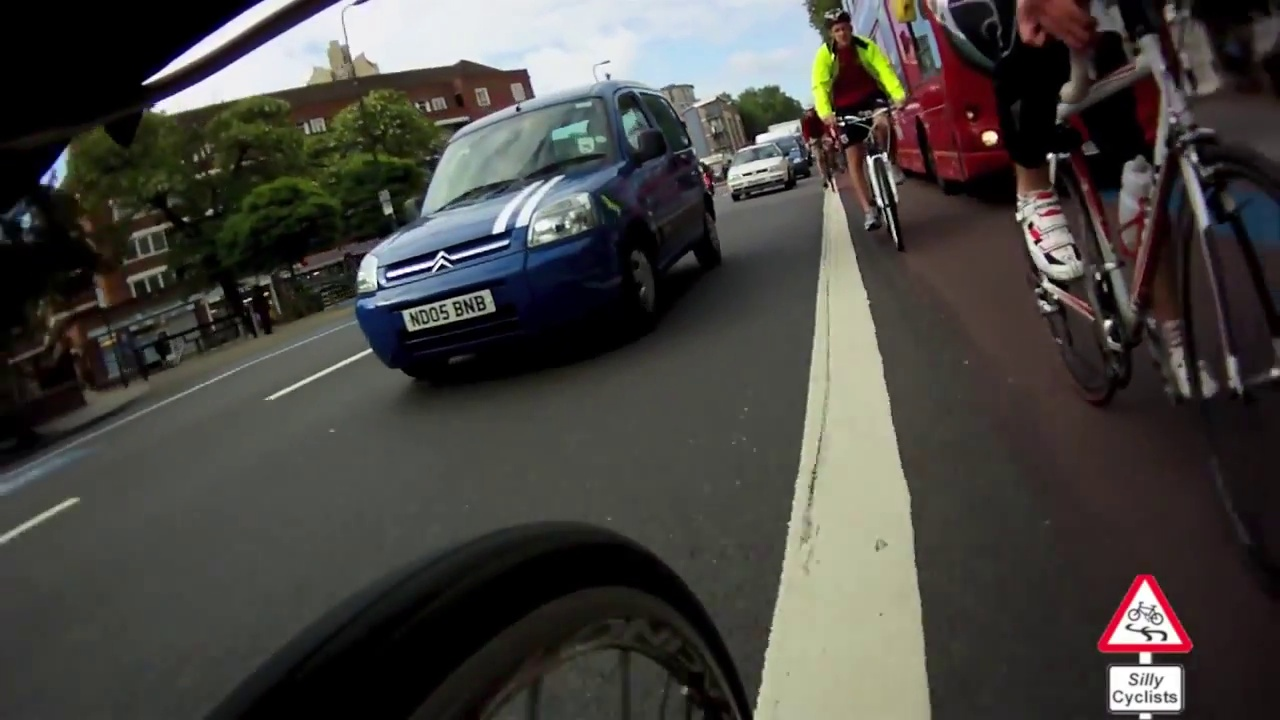cyclist_front: (810, 6, 910, 238)
